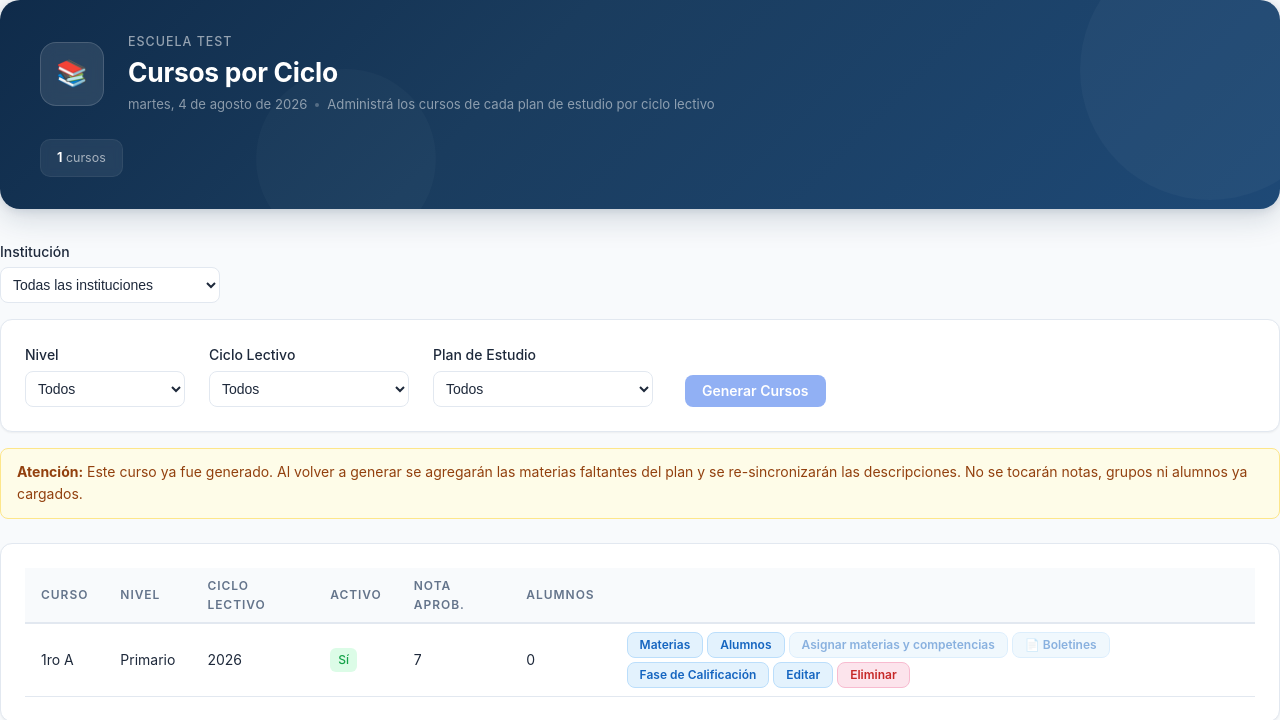
Test: CourseCyclesPage › Grading phase button + modal › GP-BTN-4: opens a popup with the 5 phase options, marking the active one
Click the button with test id "btn-grading-phase-cc-prim" at (698, 675), box [627,662,769,688]
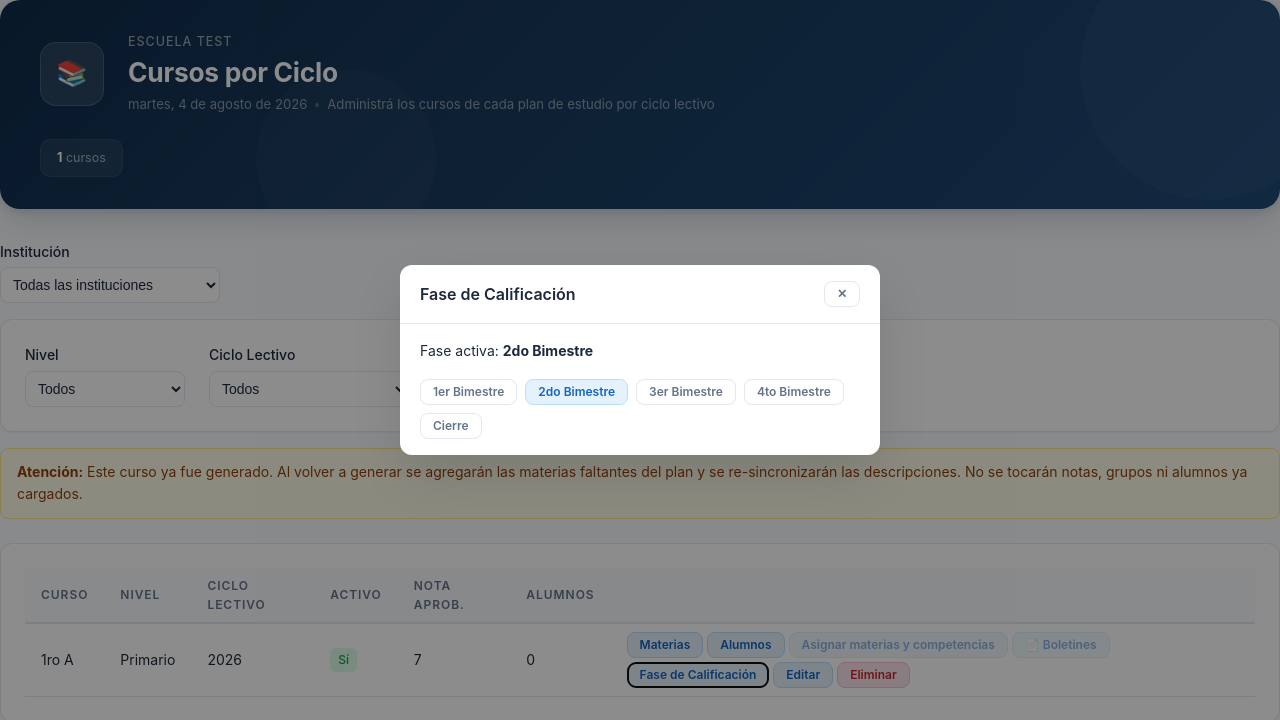
expect the dialog is shown: met, box [400,265,880,455]
expect the button "1er Bimestre" is shown: met, box [420,379,517,405]
expect the button "2do Bimestre" is shown: met, box [525,379,628,405]
